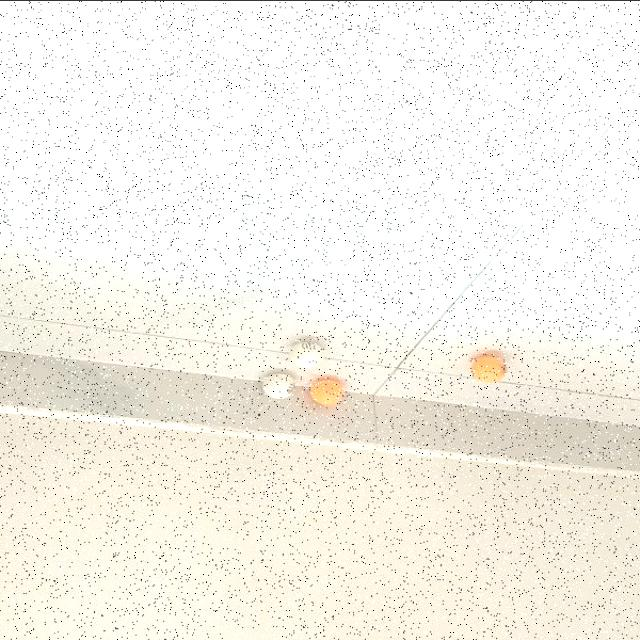ping-pong-ball: (469, 353, 507, 383), (309, 376, 345, 404), (288, 340, 324, 368), (262, 370, 296, 398)
